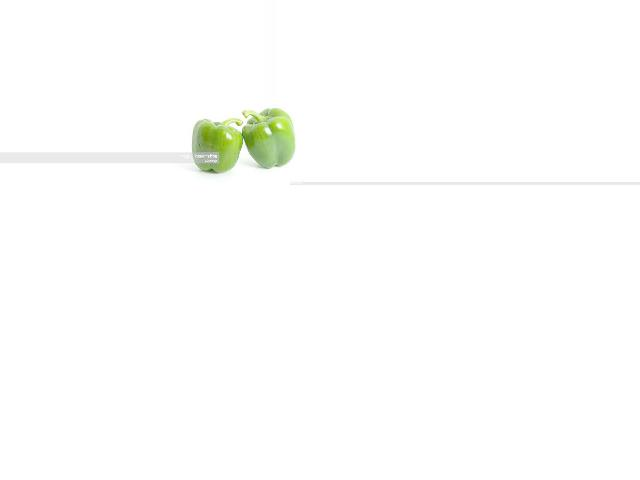bell_pepper: (243, 104, 295, 177)
